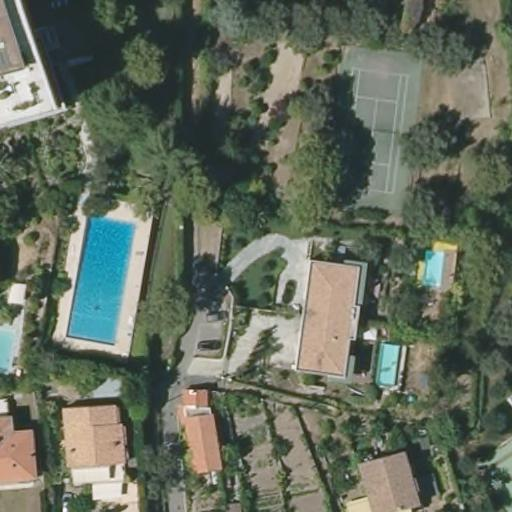pool: (69, 216, 142, 352), (370, 334, 406, 391), (419, 245, 446, 291), (0, 324, 21, 376)
